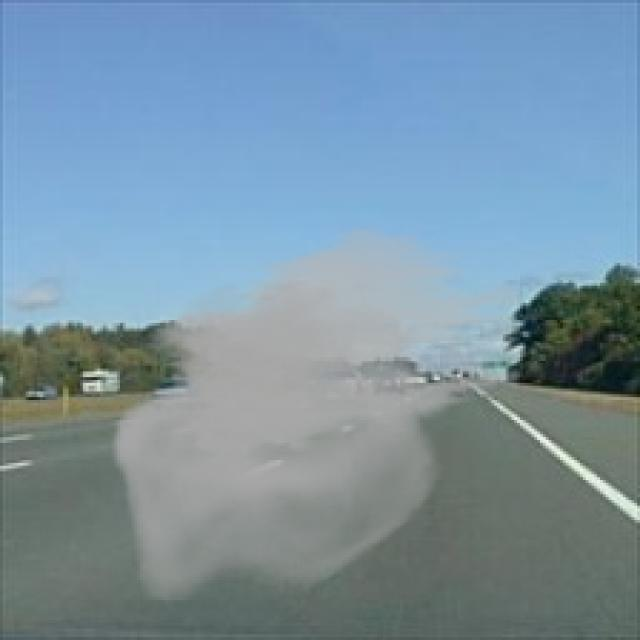smoke: (111, 223, 523, 603)
